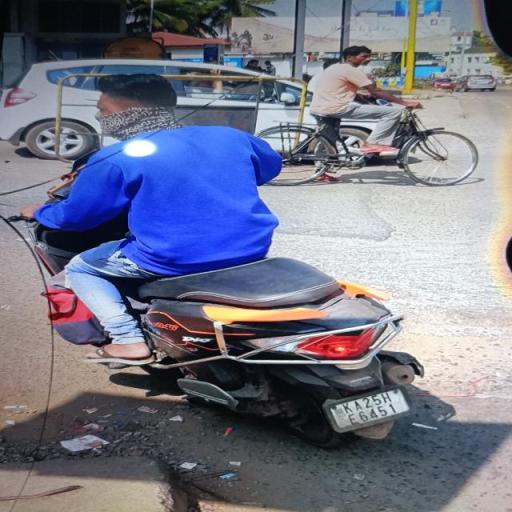bike: (11, 72, 428, 443)
numberplate: (322, 378, 416, 432)
withouthelmet: (97, 76, 176, 137)
